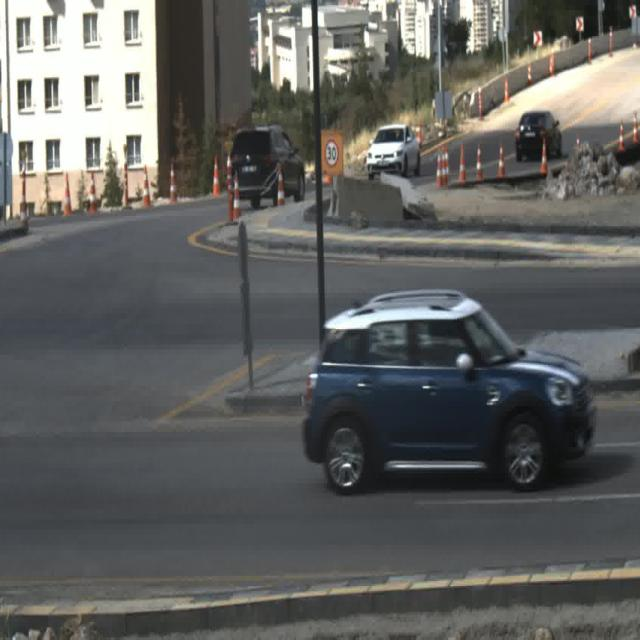Car: (302, 289, 598, 492), (231, 129, 305, 204), (368, 124, 422, 179), (517, 112, 564, 159)
